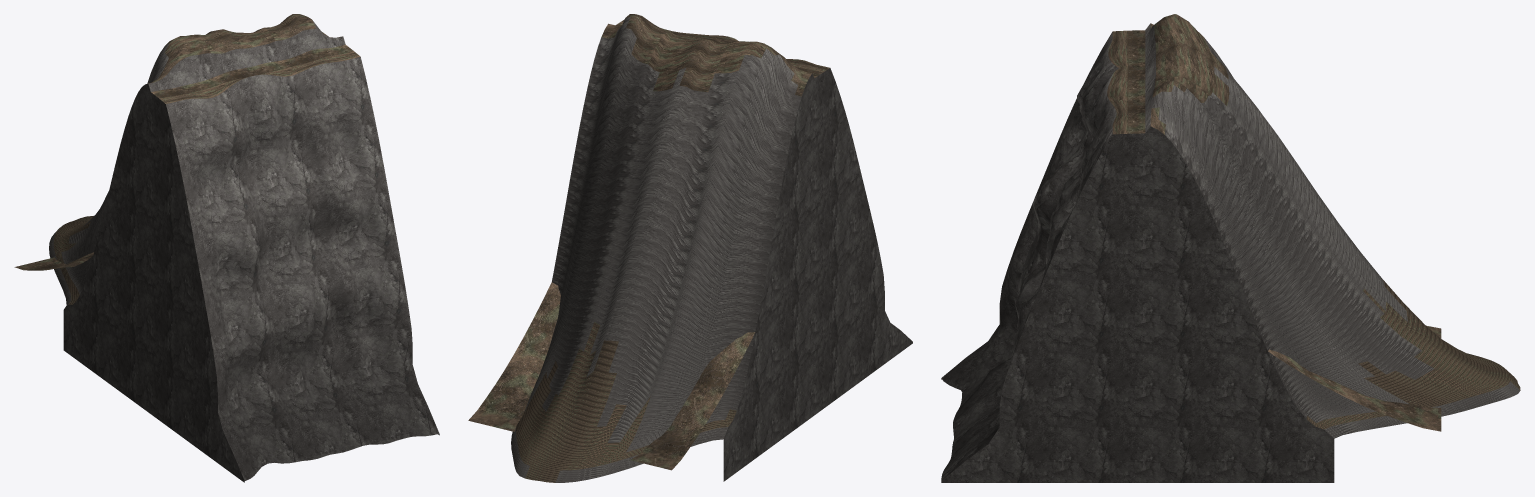
The model's file is seacliff_straight6c_h8_v5_autumn.glb.
The picture shows the model from 3 angles, left to right: view 1: azimuth 30°, elevation 25°; view 2: azimuth 150°, elevation 25°; view 3: azimuth 270°, elevation 25°; orthographic projection. The views are drawn at different scales.
Parts seen in each view (by area): view 1: seacliff_straight6c_h8; view 2: seacliff_straight6c_h8; view 3: seacliff_straight6c_h8.
Boxes of the visible parts, box(x1,y1,x2,y2) form: seacliff_straight6c_h8: box(14, 14, 439, 482); seacliff_straight6c_h8: box(468, 14, 912, 482); seacliff_straight6c_h8: box(941, 14, 1520, 482).
Size of the model in its own units: 6 by 10.47 by 14.23.
Materials: 2 (2 with a texture image).
